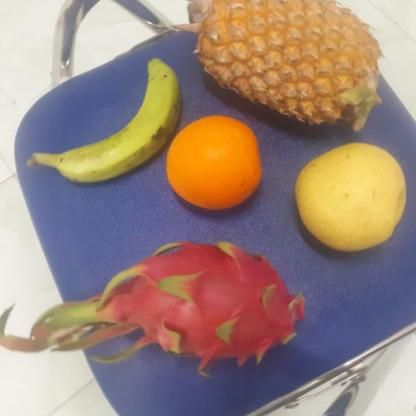banana: (48, 59, 187, 185)
guava: (295, 147, 412, 253)
pear: (166, 116, 266, 212)
pineapple: (198, 0, 382, 136)
pitaya: (106, 238, 322, 369)
